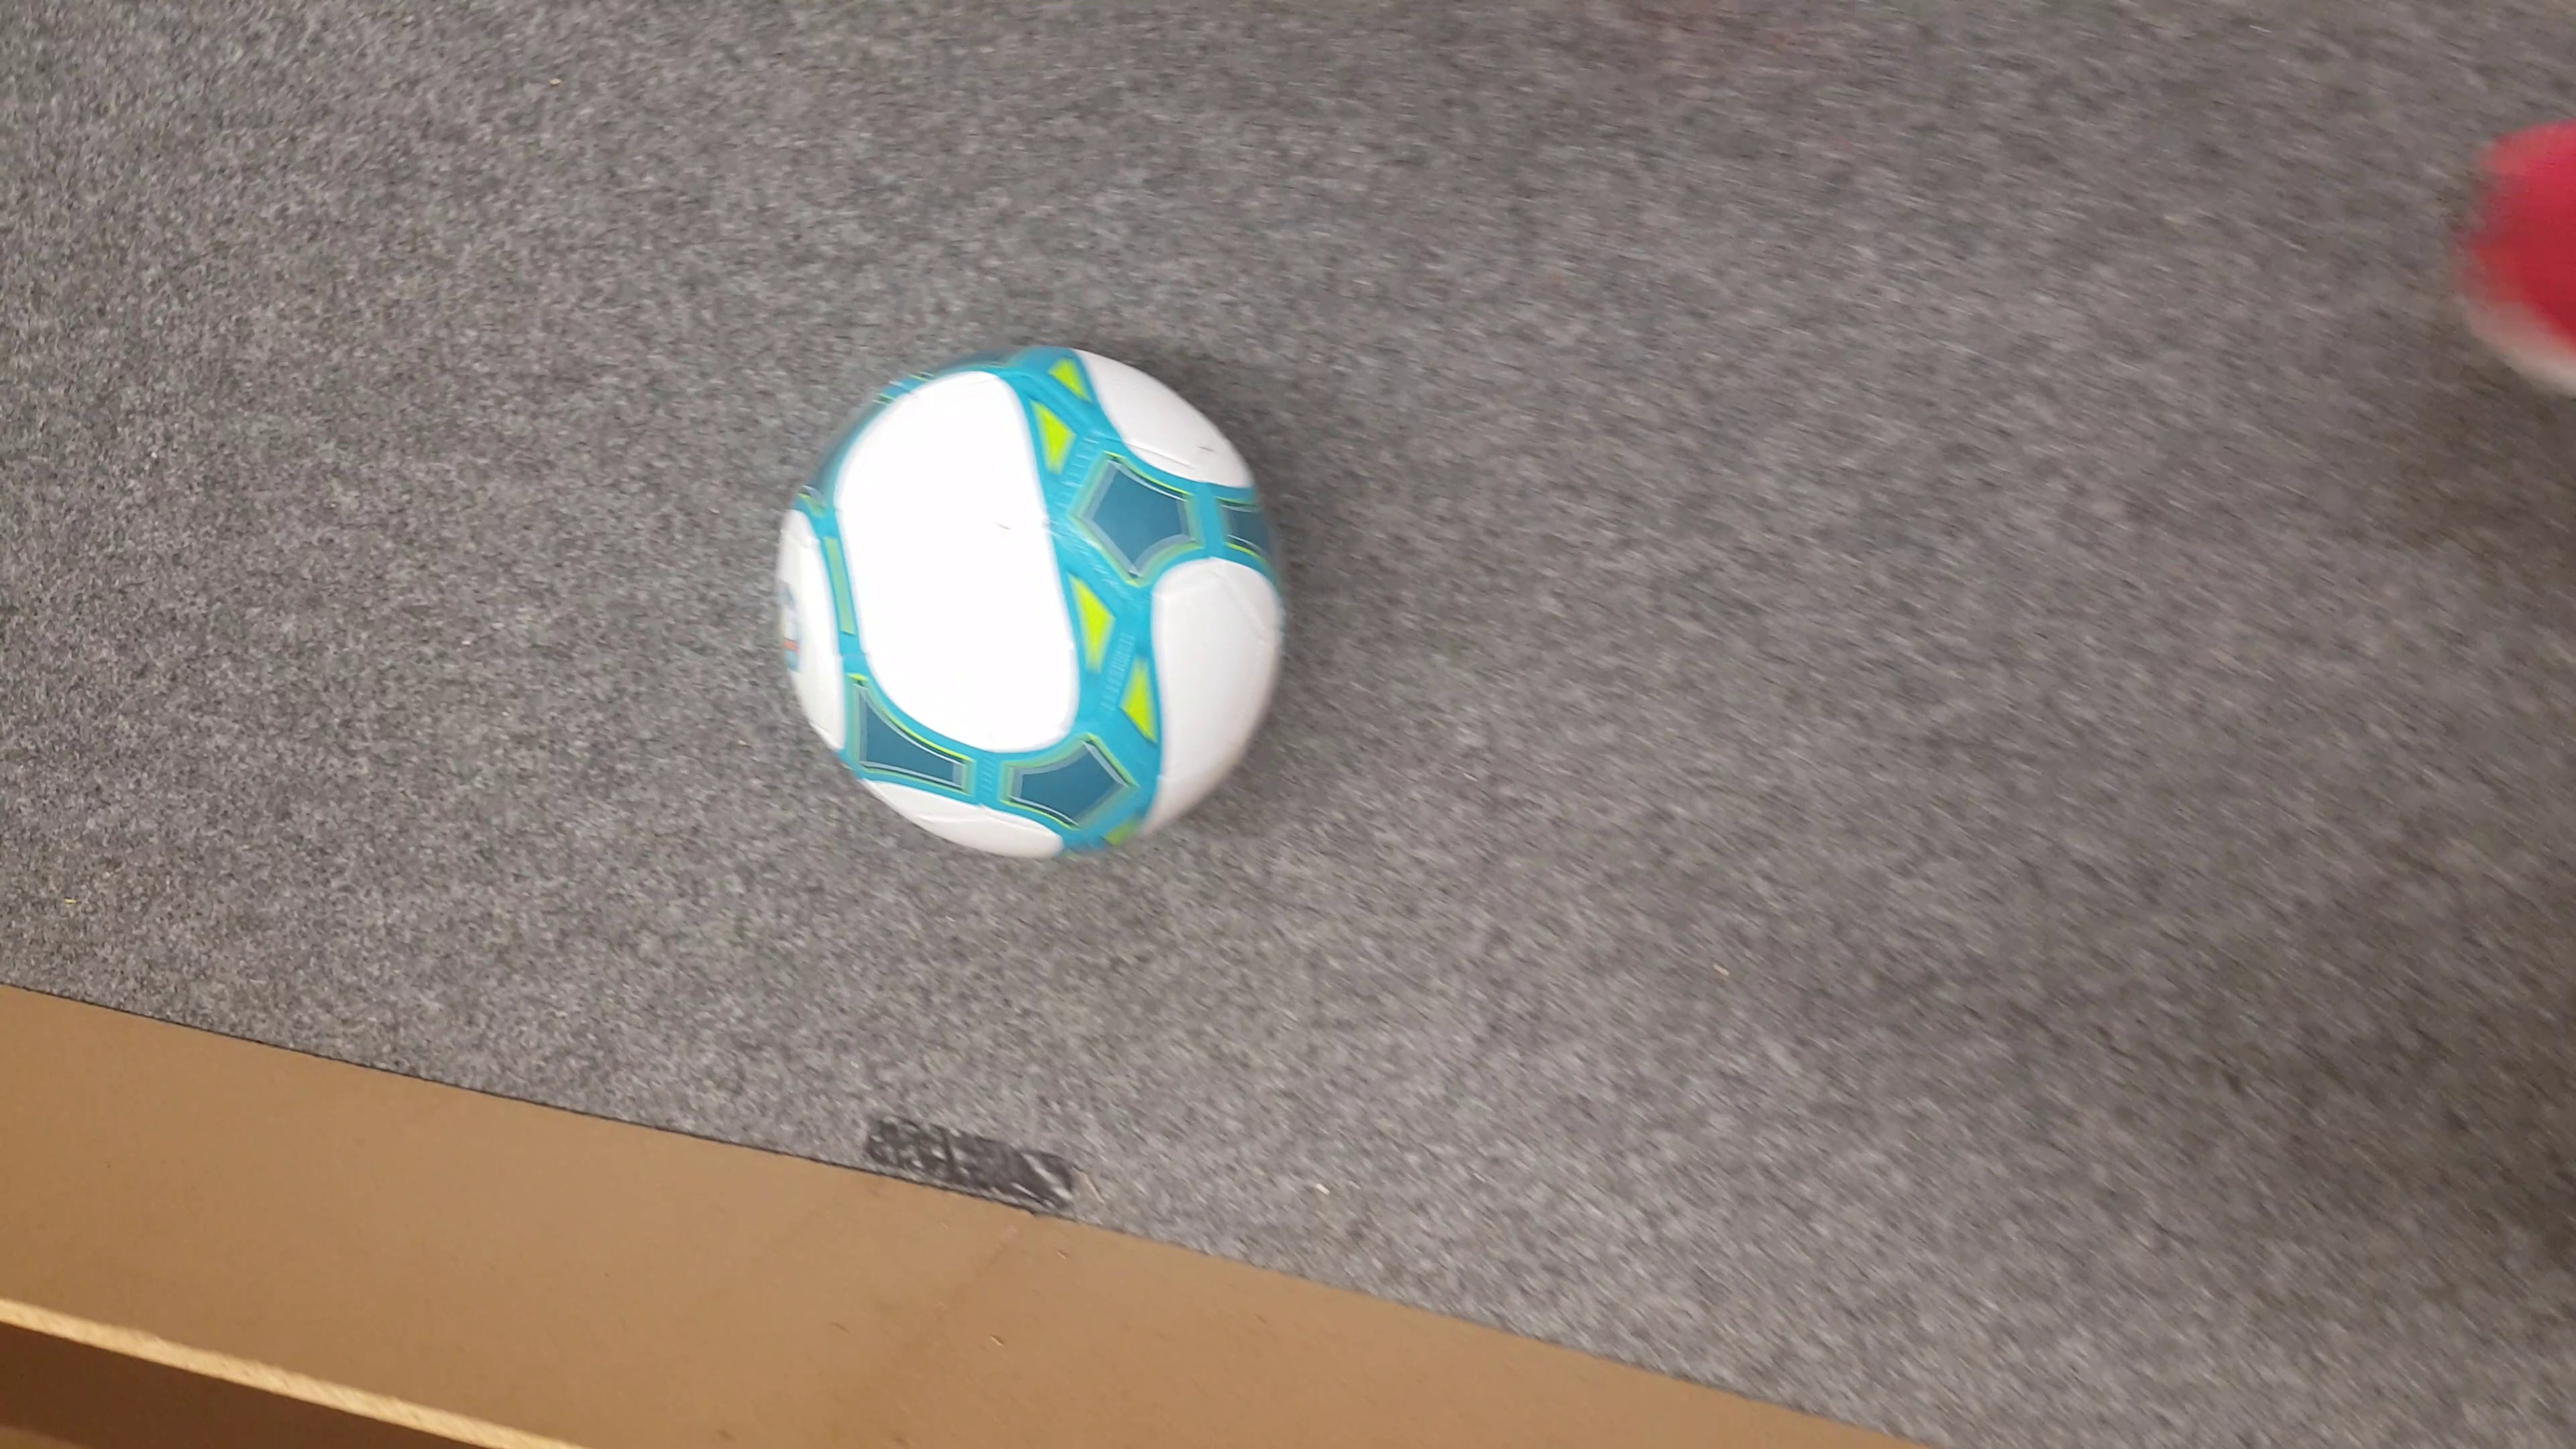kick: (773, 341, 1284, 867)
